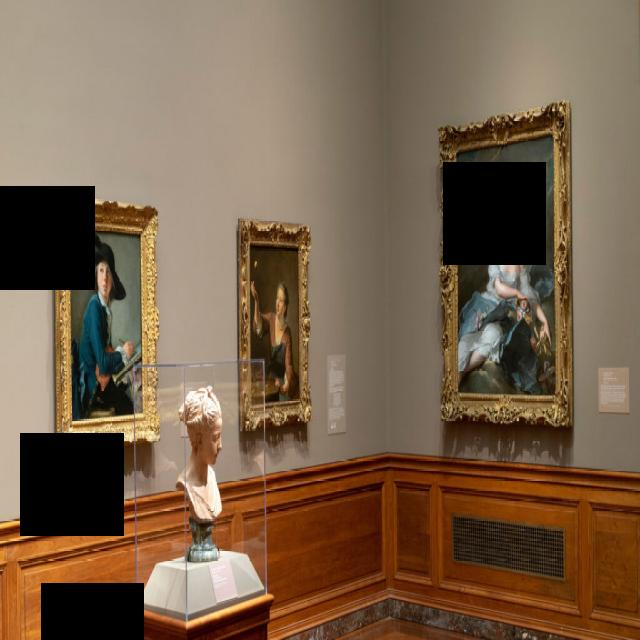Tablo: (456, 131, 557, 397), (69, 226, 144, 421), (248, 243, 300, 405)
